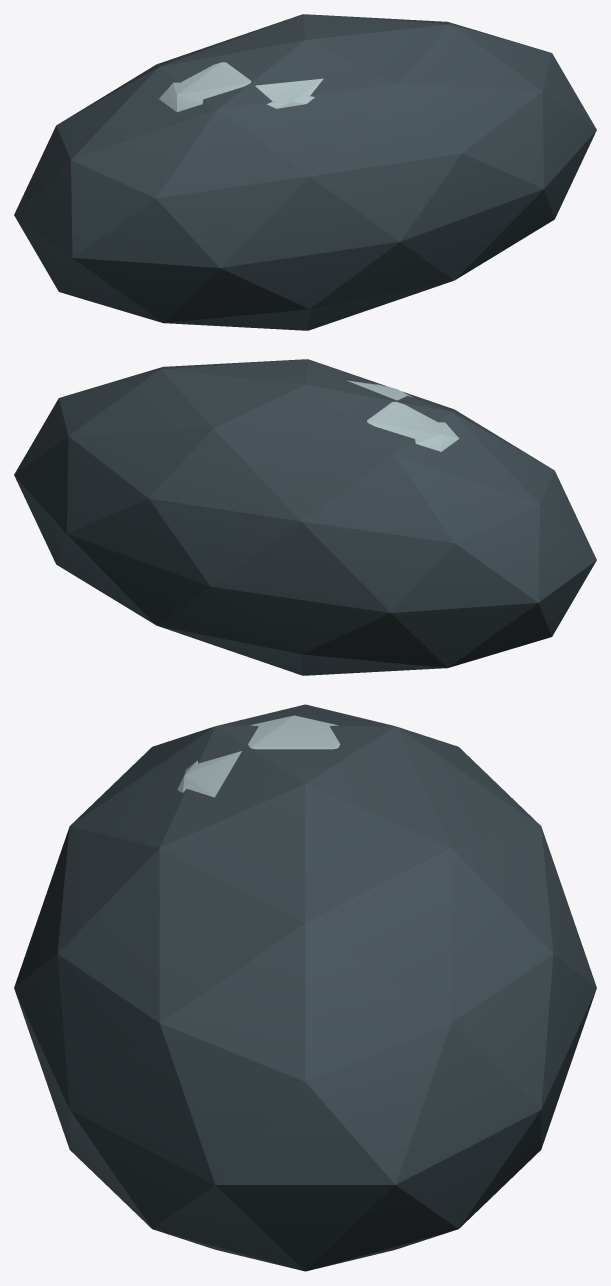
File: rock-shelf.glb
The picture shows the model from 3 angles, top to bottom: view 1: azimuth 30°, elevation 25°; view 2: azimuth 150°, elevation 25°; view 3: azimuth 270°, elevation 25°; orthographic projection. The views are drawn at different scales.
Parts seen in each view (by area): view 1: WorldRockShelfR13_R13 Rock Shelf Stone_Batch, WorldRockShelfR13_R13 Shared Rock Snow_Batch; view 2: WorldRockShelfR13_R13 Rock Shelf Stone_Batch, WorldRockShelfR13_R13 Shared Rock Snow_Batch; view 3: WorldRockShelfR13_R13 Rock Shelf Stone_Batch, WorldRockShelfR13_R13 Shared Rock Snow_Batch.
Boxes of the visible parts, x1,y1,x2,y2 form: WorldRockShelfR13_R13 Rock Shelf Stone_Batch: [14, 14, 596, 330]; WorldRockShelfR13_R13 Shared Rock Snow_Batch: [159, 62, 323, 111]; WorldRockShelfR13_R13 Rock Shelf Stone_Batch: [14, 359, 596, 675]; WorldRockShelfR13_R13 Shared Rock Snow_Batch: [347, 380, 459, 451]; WorldRockShelfR13_R13 Rock Shelf Stone_Batch: [14, 704, 596, 1271]; WorldRockShelfR13_R13 Shared Rock Snow_Batch: [177, 715, 340, 797].
Size of the model in its own units: 2.48 by 1.2 by 1.55.
